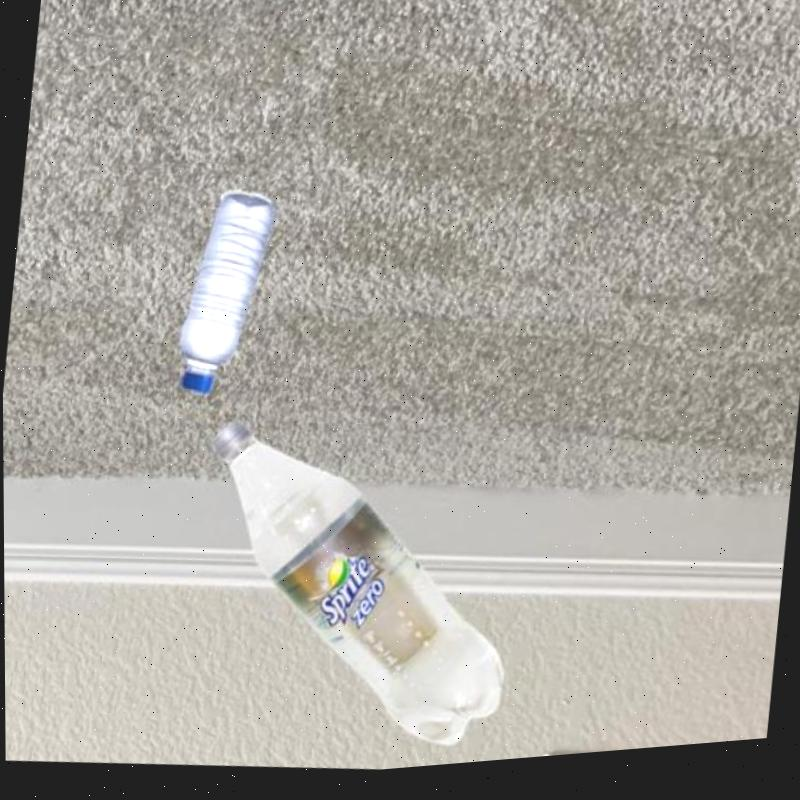botella: (178, 403, 529, 774), (169, 184, 279, 404)
